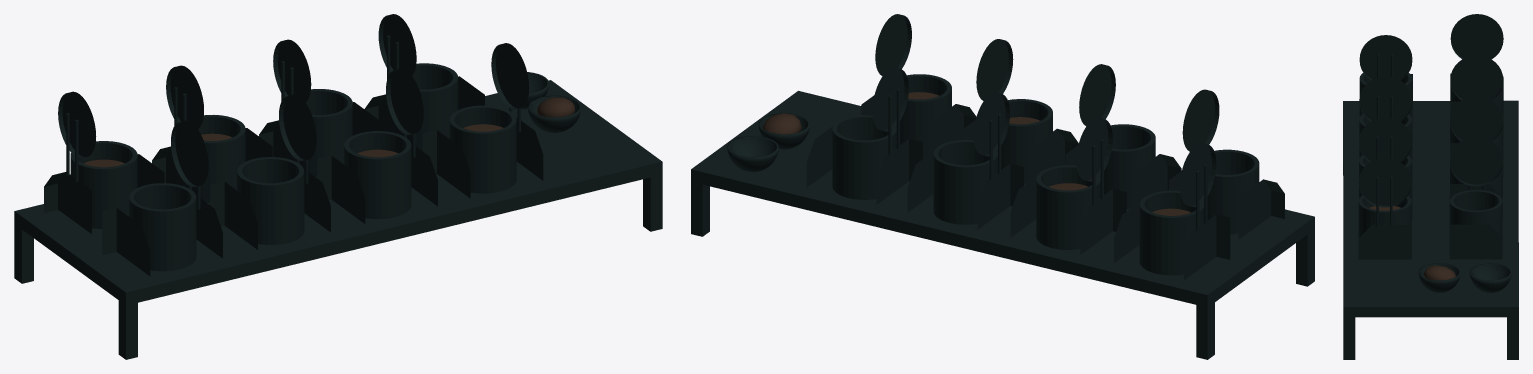
File: cuisiniere.obj
3 renders of one model, left to right at view 1: azimuth 30°, elevation 25°; view 2: azimuth 150°, elevation 25°; view 3: azimuth 270°, elevation 25°, orthographic. The views are drawn at different scales.
Visible parts, largest first — view 1: Cube.14135_Cube.14186, Cylinder.4787_Cylinder.4880, Cylinder.4785_Cylinder.4878, Cylinder.4781_Cylinder.4874, Cylinder.4783_Cylinder.4876, Cylinder.4786_Cylinder.4879, Cylinder.4782_Cylinder.4875, Cylinder.4780_Cylinder.4873, Cylinder.4784_Cylinder.4877, Sphere.300_Sphere.062, Icosphere.605_Icosphere.574, Sphere.301_Sphere.544; view 2: Cube.14135_Cube.14186, Cylinder.4786_Cylinder.4879, Cylinder.4782_Cylinder.4875, Cylinder.4780_Cylinder.4873, Cylinder.4784_Cylinder.4877, Cylinder.4787_Cylinder.4880, Cylinder.4785_Cylinder.4878, Cylinder.4783_Cylinder.4876, Cylinder.4781_Cylinder.4874, Sphere.301_Sphere.544, Sphere.300_Sphere.062, Icosphere.605_Icosphere.574; view 3: Cube.14135_Cube.14186, Cylinder.4780_Cylinder.4873, Cylinder.4781_Cylinder.4874, Cylinder.4782_Cylinder.4875, Cylinder.4786_Cylinder.4879, Cylinder.4784_Cylinder.4877, Cylinder.4787_Cylinder.4880, Cylinder.4785_Cylinder.4878, Cylinder.4783_Cylinder.4876, Sphere.301_Sphere.544, Sphere.300_Sphere.062, Icosphere.605_Icosphere.574.
Part boxes in pixels (x1,y1,x2,y2): Cube.14135_Cube.14186: (14,80,662,359); Cylinder.4787_Cylinder.4880: (102,120,222,275); Cylinder.4785_Cylinder.4878: (210,94,330,249); Cylinder.4781_Cylinder.4874: (422,43,543,198); Cylinder.4783_Cylinder.4876: (317,68,437,223); Cylinder.4786_Cylinder.4879: (44,91,164,233); Cylinder.4782_Cylinder.4875: (259,39,379,176); Cylinder.4780_Cylinder.4873: (364,14,484,150); Cylinder.4784_Cylinder.4877: (152,65,272,202); Sphere.300_Sphere.062: (528,95,581,132); Icosphere.605_Icosphere.574: (537,97,574,117); Sphere.301_Sphere.544: (521,72,548,109); Cube.14135_Cube.14186: (691,90,1314,359); Cylinder.4786_Cylinder.4879: (1114,143,1230,280); Cylinder.4782_Cylinder.4875: (907,92,1023,229); Cylinder.4780_Cylinder.4873: (806,67,922,204); Cylinder.4784_Cylinder.4877: (1010,117,1126,254); Cylinder.4787_Cylinder.4880: (1169,89,1284,239); Cylinder.4785_Cylinder.4878: (1065,64,1181,208); Cylinder.4783_Cylinder.4876: (962,39,1078,183); Cylinder.4781_Cylinder.4874: (861,14,976,158); Sphere.301_Sphere.544: (727,136,778,172); Sphere.300_Sphere.062: (758,113,809,149); Icosphere.605_Icosphere.574: (762,113,801,134); Cube.14135_Cube.14186: (1343,100,1518,359); Cylinder.4780_Cylinder.4873: (1449,137,1502,259); Cylinder.4781_Cylinder.4874: (1358,158,1411,259); Cylinder.4782_Cylinder.4875: (1450,96,1502,218); Cylinder.4786_Cylinder.4879: (1450,14,1503,135); Cylinder.4784_Cylinder.4877: (1450,55,1503,177); Cylinder.4787_Cylinder.4880: (1359,35,1412,117); Cylinder.4785_Cylinder.4878: (1359,76,1412,158); Cylinder.4783_Cylinder.4876: (1359,117,1412,218); Sphere.301_Sphere.544: (1469,263,1511,292); Sphere.300_Sphere.062: (1418,263,1460,292); Icosphere.605_Icosphere.574: (1423,265,1455,280).
Size of the model in its own units: 7.13 by 2.47 by 2.57.
